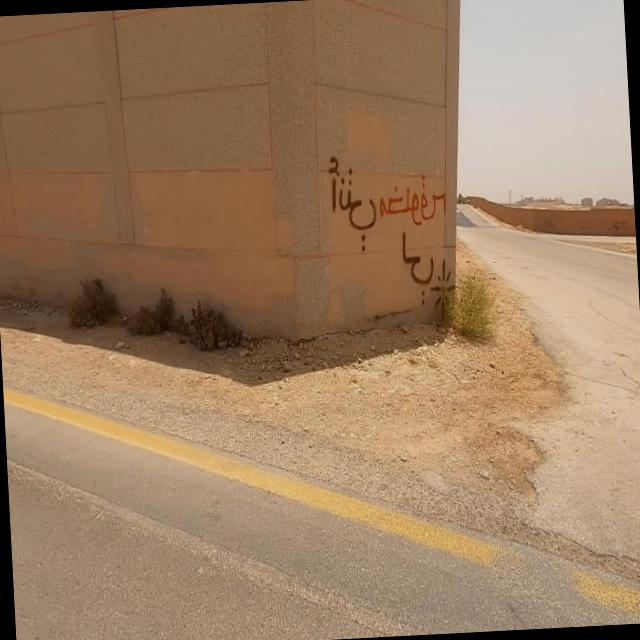debris: (260, 61, 520, 418)
